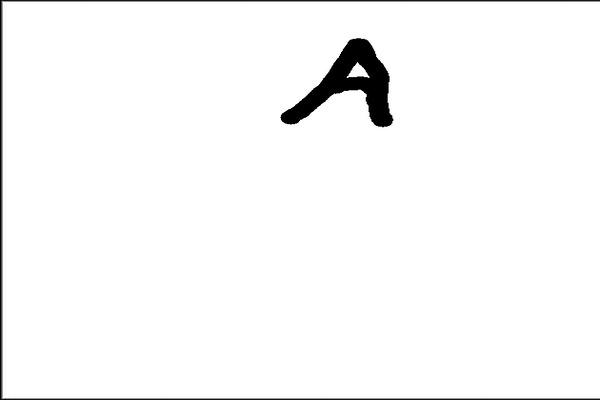A: (267, 29, 400, 136)
